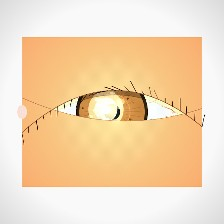corneal_ulcer: (86, 94, 126, 125)
